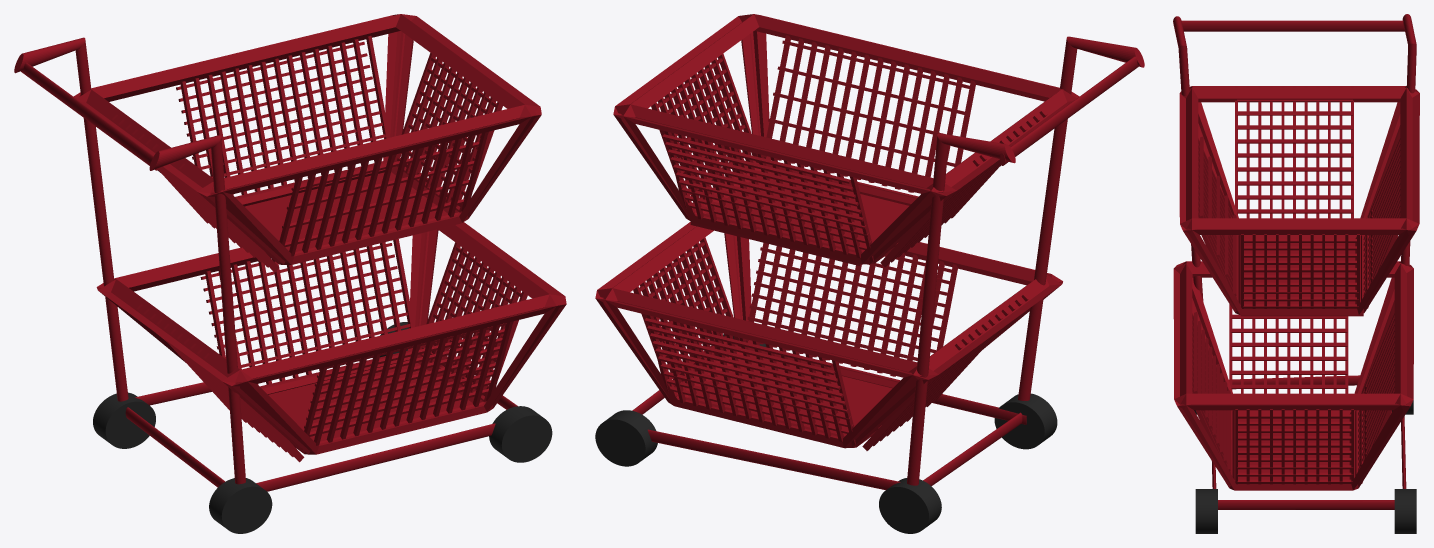
File: trolley.fbx
3 renders of one model, left to right at view 1: azimuth 30°, elevation 25°; view 2: azimuth 150°, elevation 25°; view 3: azimuth 270°, elevation 25°, orthographic. The views are drawn at different scales.
Parts seen in each view (by area): view 1: Cube, Cube.1342, Cube.006, Cube.005, Cube.1341, Cube.1340, Cylinder.004, Cube.012, Cylinder.005, Cube.1339, Cube.1343, Cube.1337 (+15 smaller); view 2: Cube, Cube.1342, Cube.1338, Cube.009, Cube.005, Cube.1341, Cube.1339, Cube.006, Cube.1340, Cylinder.005, Cylinder.004, Cube.012 (+15 smaller); view 3: Cube, Cube.1342, Cube.1333, Cube.1336, Cube.1332, Cube.1334, Cube.1343, Cube.1335, Cube.1344, Cube.1337, Cylinder.006, Cube.012 (+14 smaller).
Part boxes in pixels (x1,y1,x2,y2): Cube: (73,14,541,264); Cube.1342: (96,222,566,454); Cube.006: (180,35,389,195); Cube.005: (279,132,488,256); Cube.1341: (304,321,513,445); Cube.1340: (205,239,414,384); Cylinder.004: (149,135,245,484); Cube.012: (394,53,502,212); Cylinder.005: (14,37,128,401); Cube.1339: (304,323,506,436); Cube.1343: (244,172,460,251); Cube.1337: (419,242,527,401); Cube: (613,14,1079,264); Cube.1342: (595,222,1062,448); Cube.1338: (644,318,853,433); Cube.009: (662,134,871,249); Cube.005: (764,35,975,192); Cube.1341: (746,242,957,376); Cube.1339: (747,247,952,360); Cube.006: (664,131,873,261); Cube.1340: (647,315,855,445); Cylinder.005: (907,133,1015,485); Cylinder.004: (1018,36,1144,400); Cube.012: (651,53,759,211); Cube: (1179,86,1419,315); Cube.1342: (1173,261,1413,490); Cube.1333: (1237,99,1352,213); Cube.1336: (1237,414,1353,483); Cube.1332: (1243,239,1358,308); Cube.1334: (1235,86,1353,218); Cube.1343: (1240,243,1363,316); Cube.1335: (1231,314,1347,388); Cube.1344: (1238,418,1349,479); Cube.1337: (1235,409,1353,484); Cylinder.006: (1181,20,1404,31); Cube.012: (1241,234,1359,308).
Bounding box in the file's own units: 1715 × 1595 × 1001.
